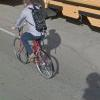bicycles: (11, 23, 55, 80)
